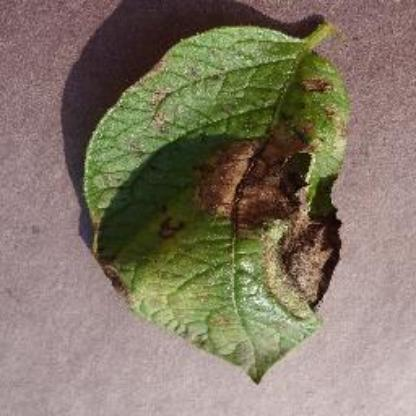Late-Blight: (80, 14, 346, 380)
